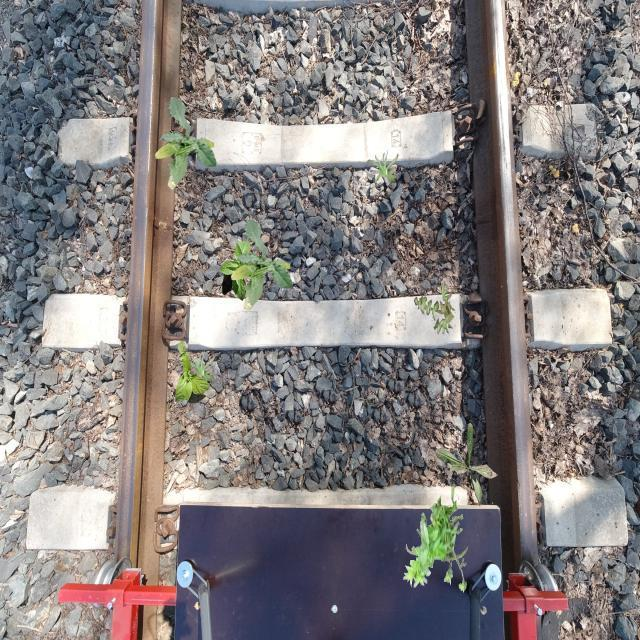Plant: (403, 486, 468, 594), (231, 218, 294, 312), (155, 97, 218, 190), (434, 423, 498, 507), (220, 241, 262, 301), (414, 281, 456, 335), (175, 341, 210, 404), (183, 350, 216, 384), (366, 149, 398, 184)
